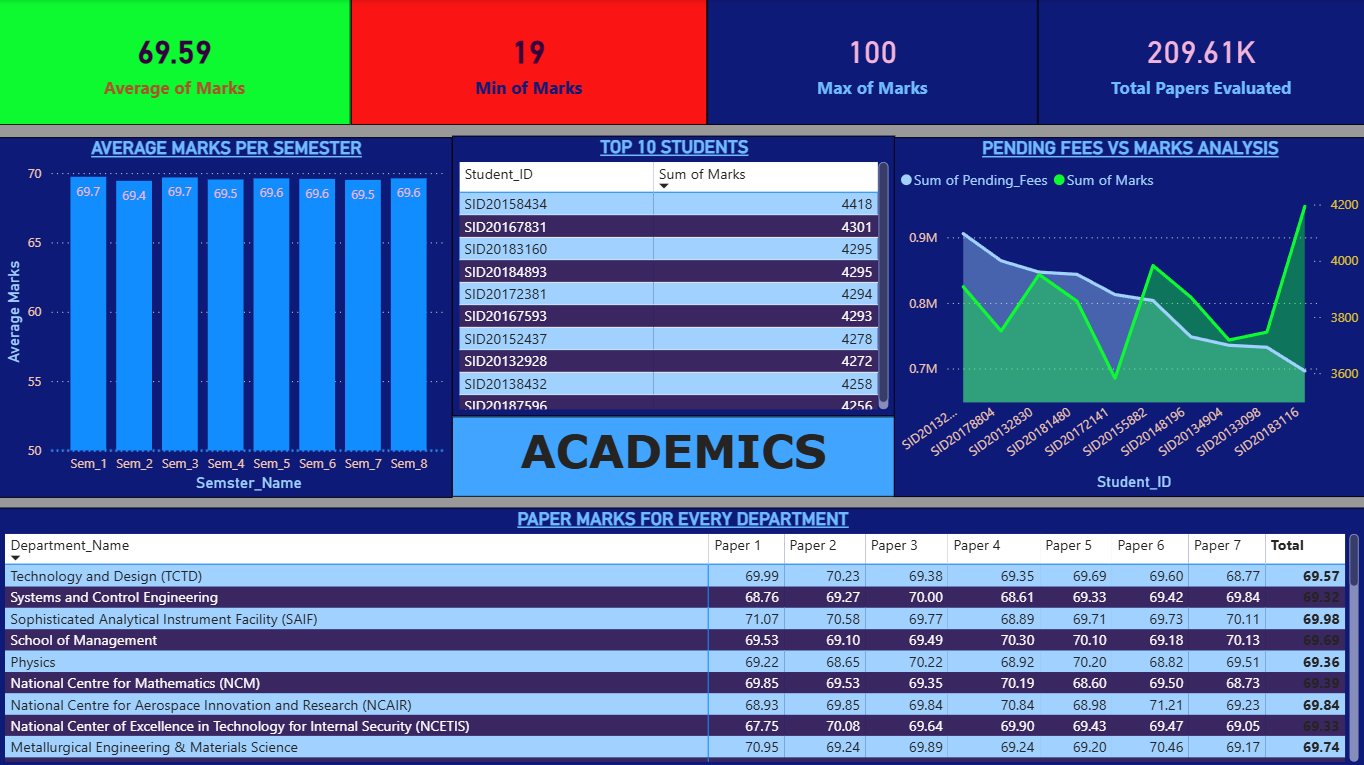

What the dashboard file says about the page in this screenshot:
{"tool":"powerbi","page":{"name":"Academics","canvas":[1280,720],"ordinal":1},"visuals":[{"type":"card","fields":{"Values":["Min(Stu Perform.Marks)"]},"box":[329.4,0,333.6,117.7],"z":0},{"type":"card","fields":{"Values":["Avg(Stu Perform.Marks)"]},"box":[0,0,329.4,117.7],"z":1000},{"type":"card","fields":{"Values":["Max(Stu Perform.Marks)"]},"box":[662.9,0,309.7,117.7],"z":2000},{"type":"card","fields":{"Values":["CountNonNull(Stu Perform.Paper_ID)"]},"box":[972.7,0,306.9,117.7],"z":3000},{"type":"clusteredColumnChart","title":"AVERAGE MARKS PER SEMESTER","fields":{"Category":["Stu Perform.Semster_Name"],"Y":["Table.Average Marks"]},"box":[0,128.9,424.7,337.8],"z":4000},{"type":"pivotTable","title":"PAPER MARKS FOR EVERY DEPARTMENT","fields":{"Rows":["Dept Details.Department_Name"],"Columns":["Stu Perform.Paper_Name"],"Values":["Avg(Stu Perform.Marks)"]},"box":[0,475.8,1279.6,244.3],"z":5000},{"type":"tableEx","title":"TOP 10 STUDENTS","fields":{"Values":["Stu Perform.Student_ID","Sum(Stu Perform.Marks)"]},"box":[424.6,127.8,414.7,262.7],"z":6000},{"type":"textbox","box":[424.6,390.6,414.7,75.3],"z":8000},{"type":"lineChart","title":"PENDING FEES VS MARKS ANALYSIS","fields":{"Category":["Stu Details.Student_ID"],"Y":["Sum(Financials.Pending_Fees)"],"Y2":["Sum(Stu Perform.Marks)"]},"box":[838.2,128.8,441.4,336.6],"z":8001}]}

Visuals, with their boxes in screenshot pixels (x1, y1, x2, y2), scaled from the page's 1280x720 canvas onto the 1364x765 screenshot:
card - Min(Stu Perform.Marks): Rect(351, 0, 707, 125)
card - Avg(Stu Perform.Marks): Rect(0, 0, 351, 125)
card - Max(Stu Perform.Marks): Rect(706, 0, 1036, 125)
card - CountNonNull(Stu Perform.Paper_ID): Rect(1037, 0, 1363, 125)
"AVERAGE MARKS PER SEMESTER" clusteredColumnChart: Rect(0, 137, 453, 496)
"PAPER MARKS FOR EVERY DEPARTMENT" pivotTable: Rect(0, 506, 1363, 764)
"TOP 10 STUDENTS" tableEx: Rect(452, 136, 894, 415)
textbox: Rect(452, 415, 894, 495)
"PENDING FEES VS MARKS ANALYSIS" lineChart: Rect(893, 137, 1363, 494)
